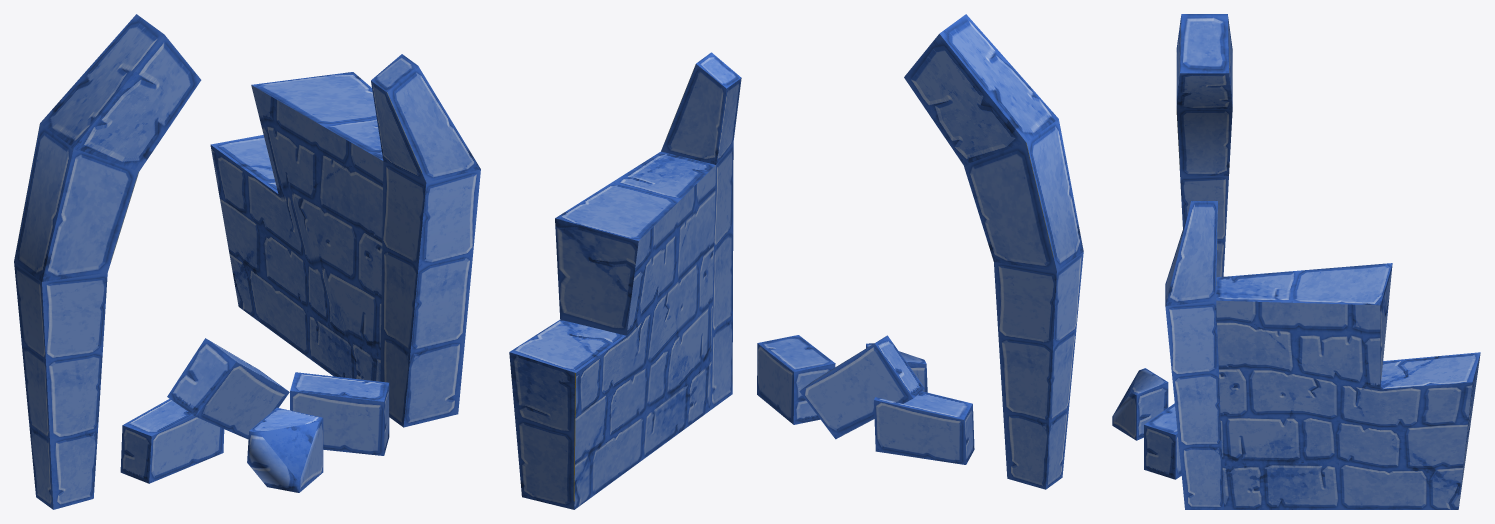
The model's file is Toon_Arch_03.fbx.
3 views of the same model, side by side, from view 1: azimuth 30°, elevation 25°; view 2: azimuth 150°, elevation 25°; view 3: azimuth 270°, elevation 25° (orthographic). The views are drawn at different scales.
Visible parts, largest first — view 1: Toon_Arch_03; view 2: Toon_Arch_03; view 3: Toon_Arch_03.
Part boxes in pixels (<box>): Toon_Arch_03: <box>14,14,480,509</box>; Toon_Arch_03: <box>509,14,1083,509</box>; Toon_Arch_03: <box>1112,14,1480,509</box>.
Bounding box in the file's own units: 10.57 × 10.62 × 9.43.
